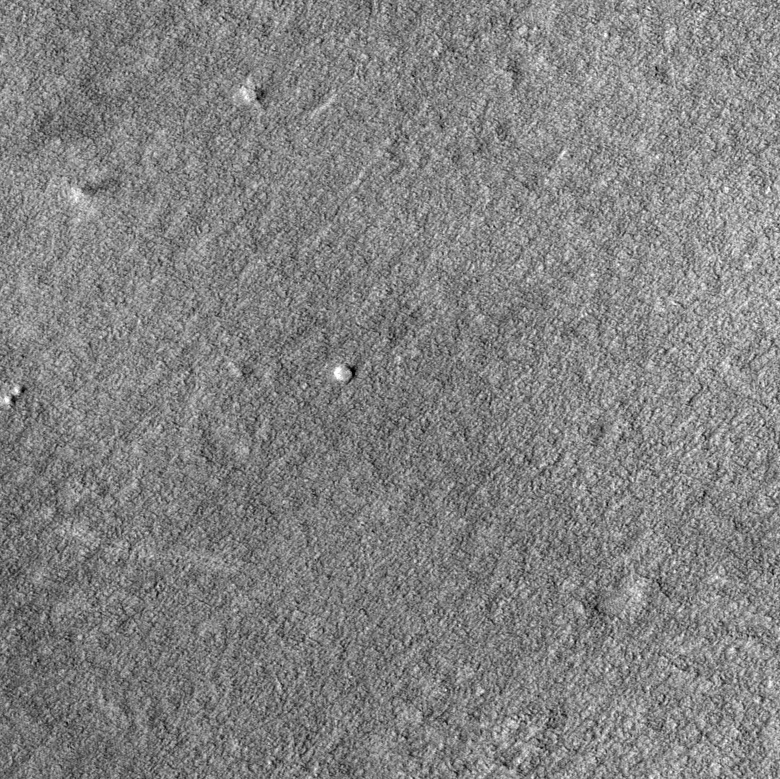dust_devil: (69, 176, 123, 204)
